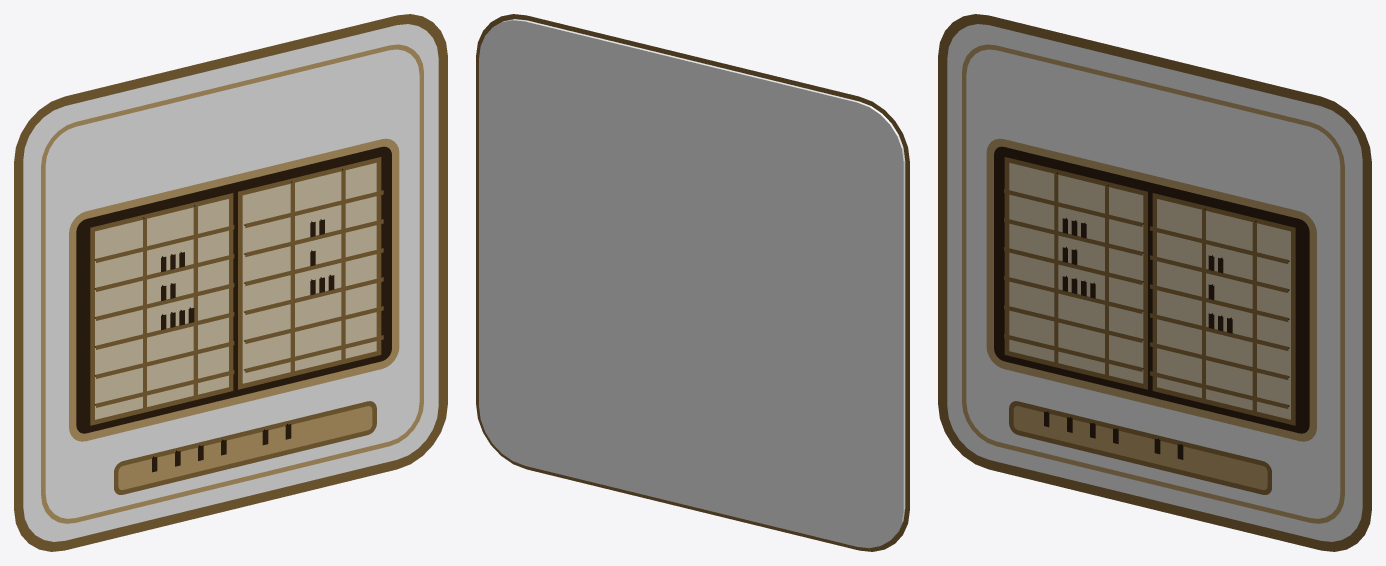
The model's file is obj-uchetnaya-kniga.glb.
The picture shows the model from 3 angles, left to right: view 1: azimuth 30°, elevation 25°; view 2: azimuth 150°, elevation 25°; view 3: azimuth 330°, elevation 25°; orthographic projection.
Parts seen in each view (by area): view 1: obj-uchetnaya-kniga; view 2: obj-uchetnaya-kniga; view 3: obj-uchetnaya-kniga.
Boxes of the visible parts, x1,y1,x2,y2 form: obj-uchetnaya-kniga: (14, 14, 447, 551); obj-uchetnaya-kniga: (476, 14, 909, 551); obj-uchetnaya-kniga: (938, 14, 1371, 551).
Bounding box in the file's own units: 0.3917 × 0.3917 × 0.0276.
